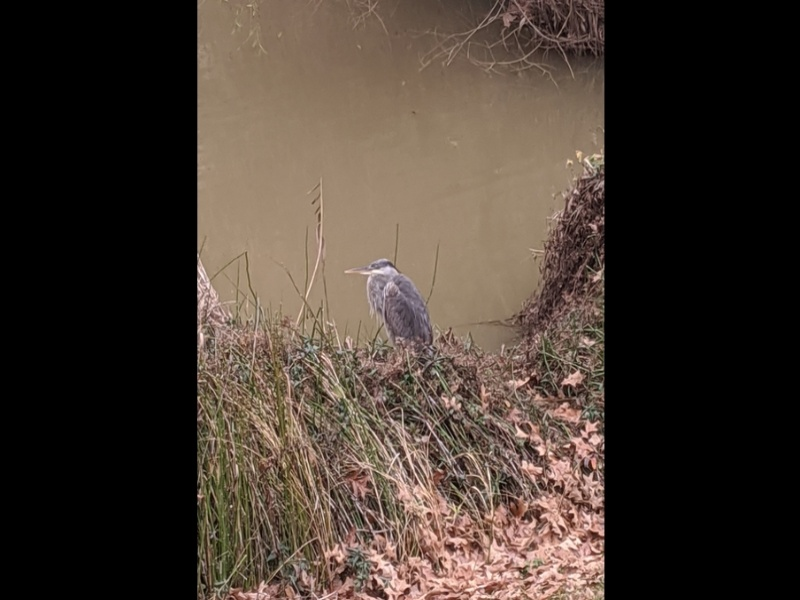heron: (346, 258, 436, 346)
